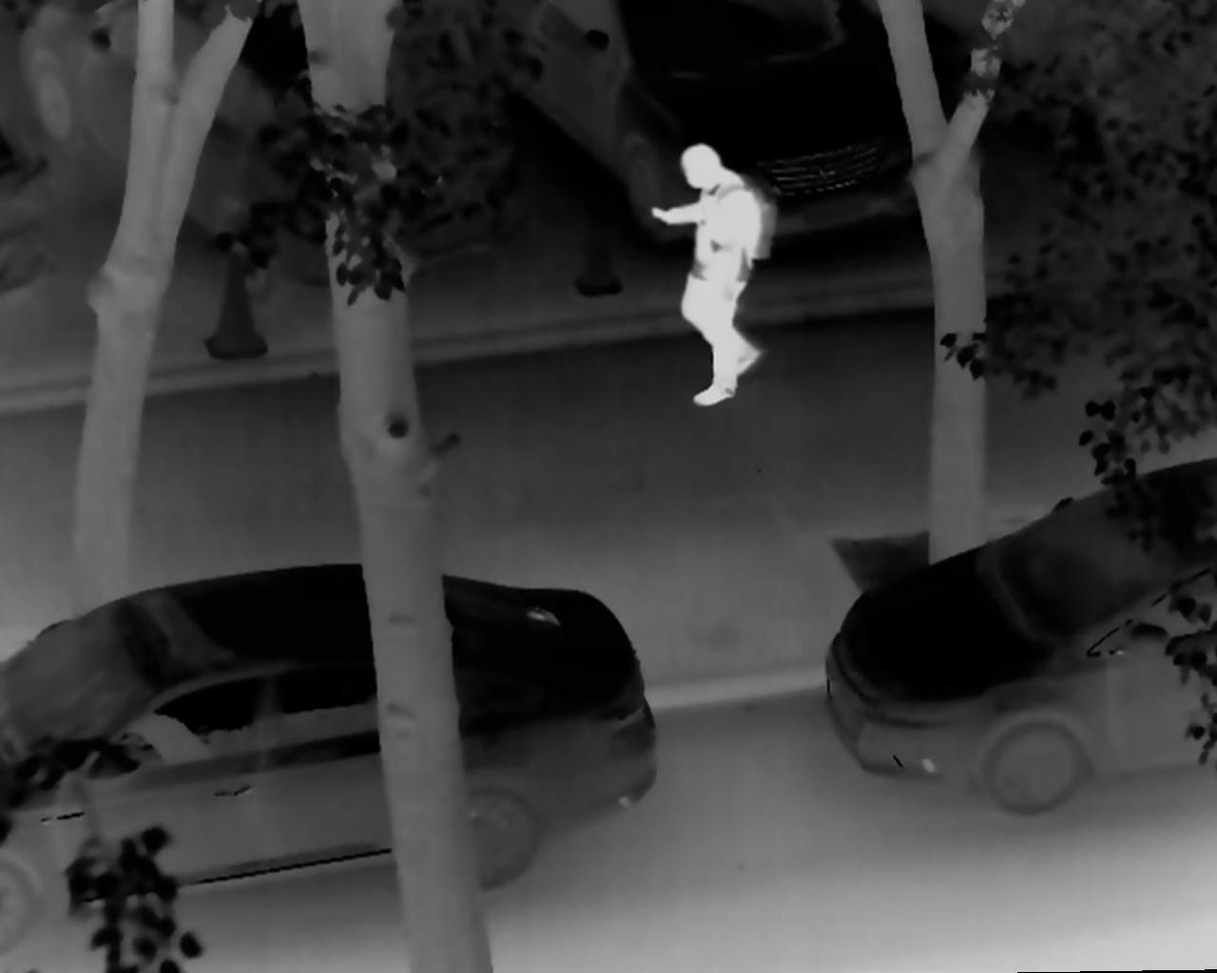person: (634, 139, 777, 415)
